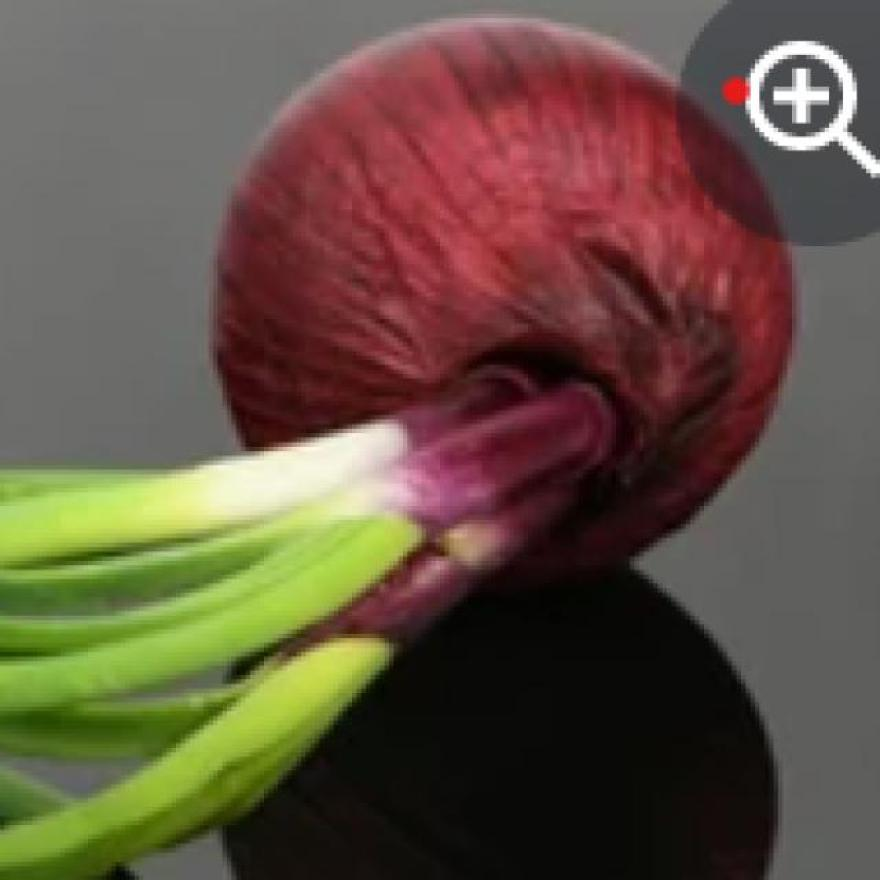Sprouted: (0, 352, 582, 880)
